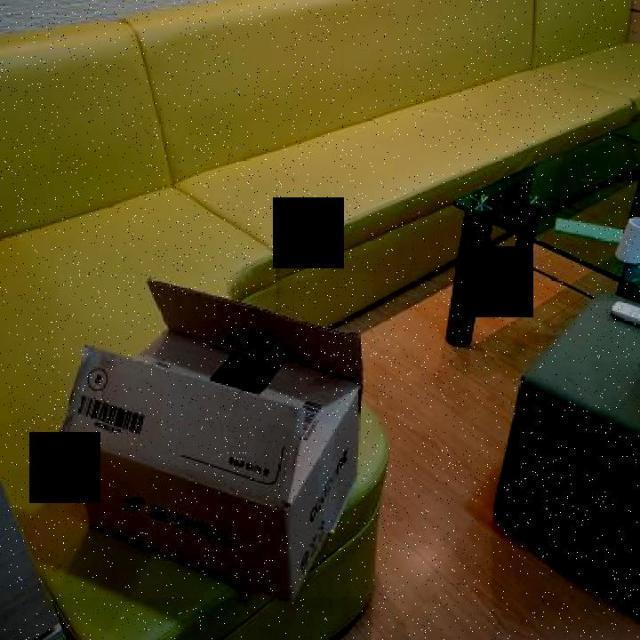box: (59, 274, 372, 598)
